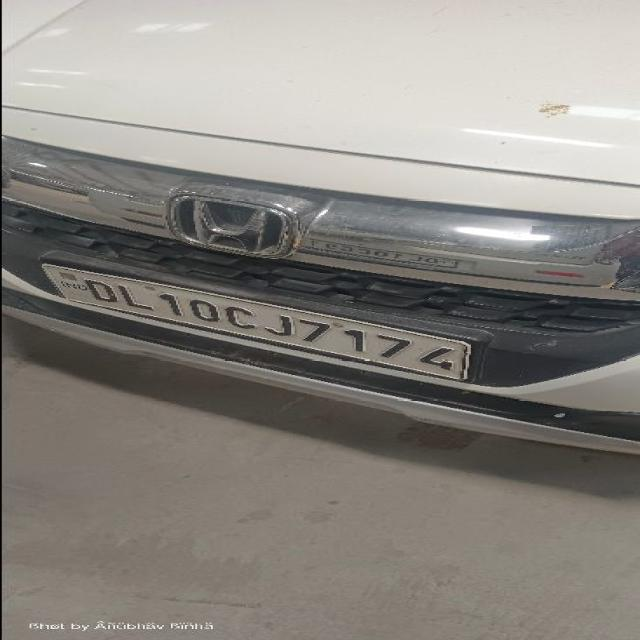license_plate: (1, 0, 636, 456), (38, 257, 474, 383)
